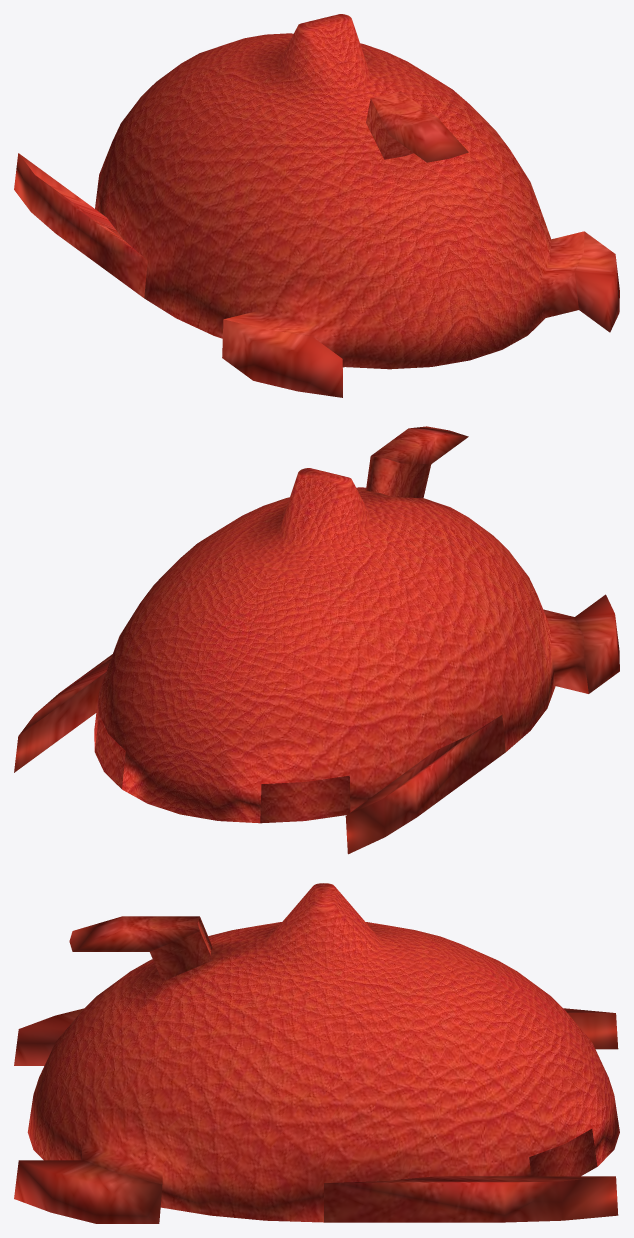
The model's file is Player2.obj.
The picture shows the model from 3 angles, top to bottom: view 1: azimuth 30°, elevation 25°; view 2: azimuth 150°, elevation 25°; view 3: azimuth 270°, elevation 25°; orthographic projection. The views are drawn at different scales.
Visible parts, largest first — view 1: Sphere; view 2: Sphere; view 3: Sphere.
Part boxes in pixels (<box>): Sphere: <box>14,14,619,397</box>; Sphere: <box>14,426,619,854</box>; Sphere: <box>14,883,619,1223</box>.
Size of the model in its own units: 2.03 by 1.23 by 2.84.
Materials: 1 (1 with a texture image).
